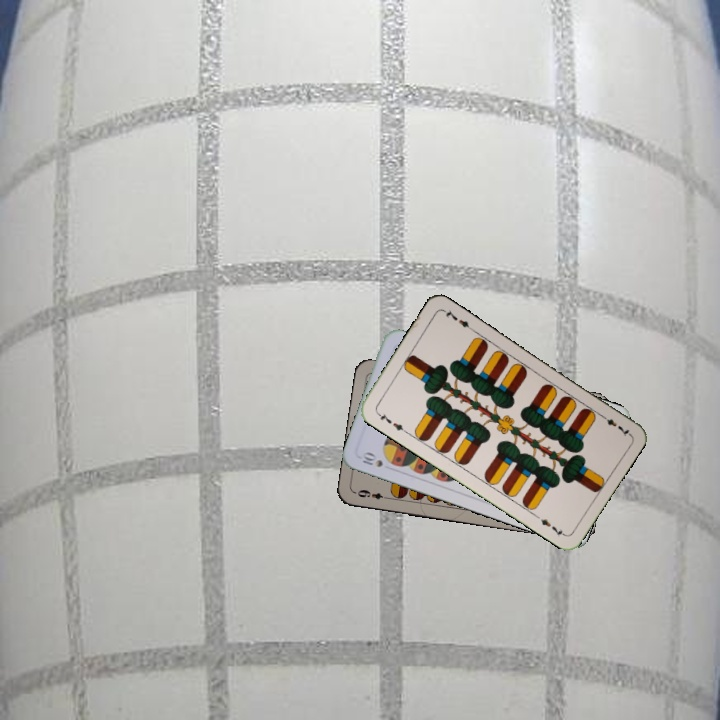E7: (596, 410, 632, 439), (373, 408, 409, 435)
E9: (354, 485, 392, 502)
S10: (358, 448, 385, 470)
